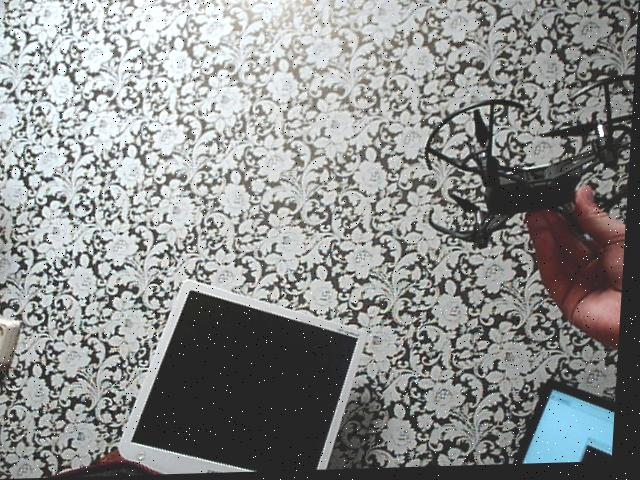drone: (414, 57, 636, 265)
